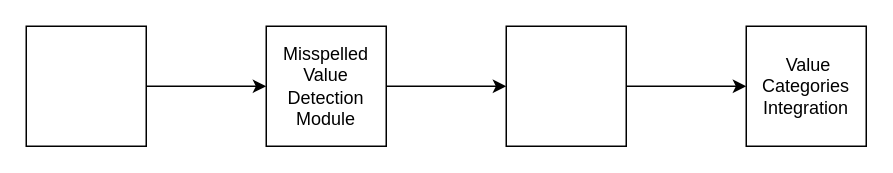
This 893x173 diagram has some shape labels left out. Each missing label, with the centre of its shape:
Invalid Value Detection Module: the point at 565,85
Null Value Detection Module: the point at 85,85
